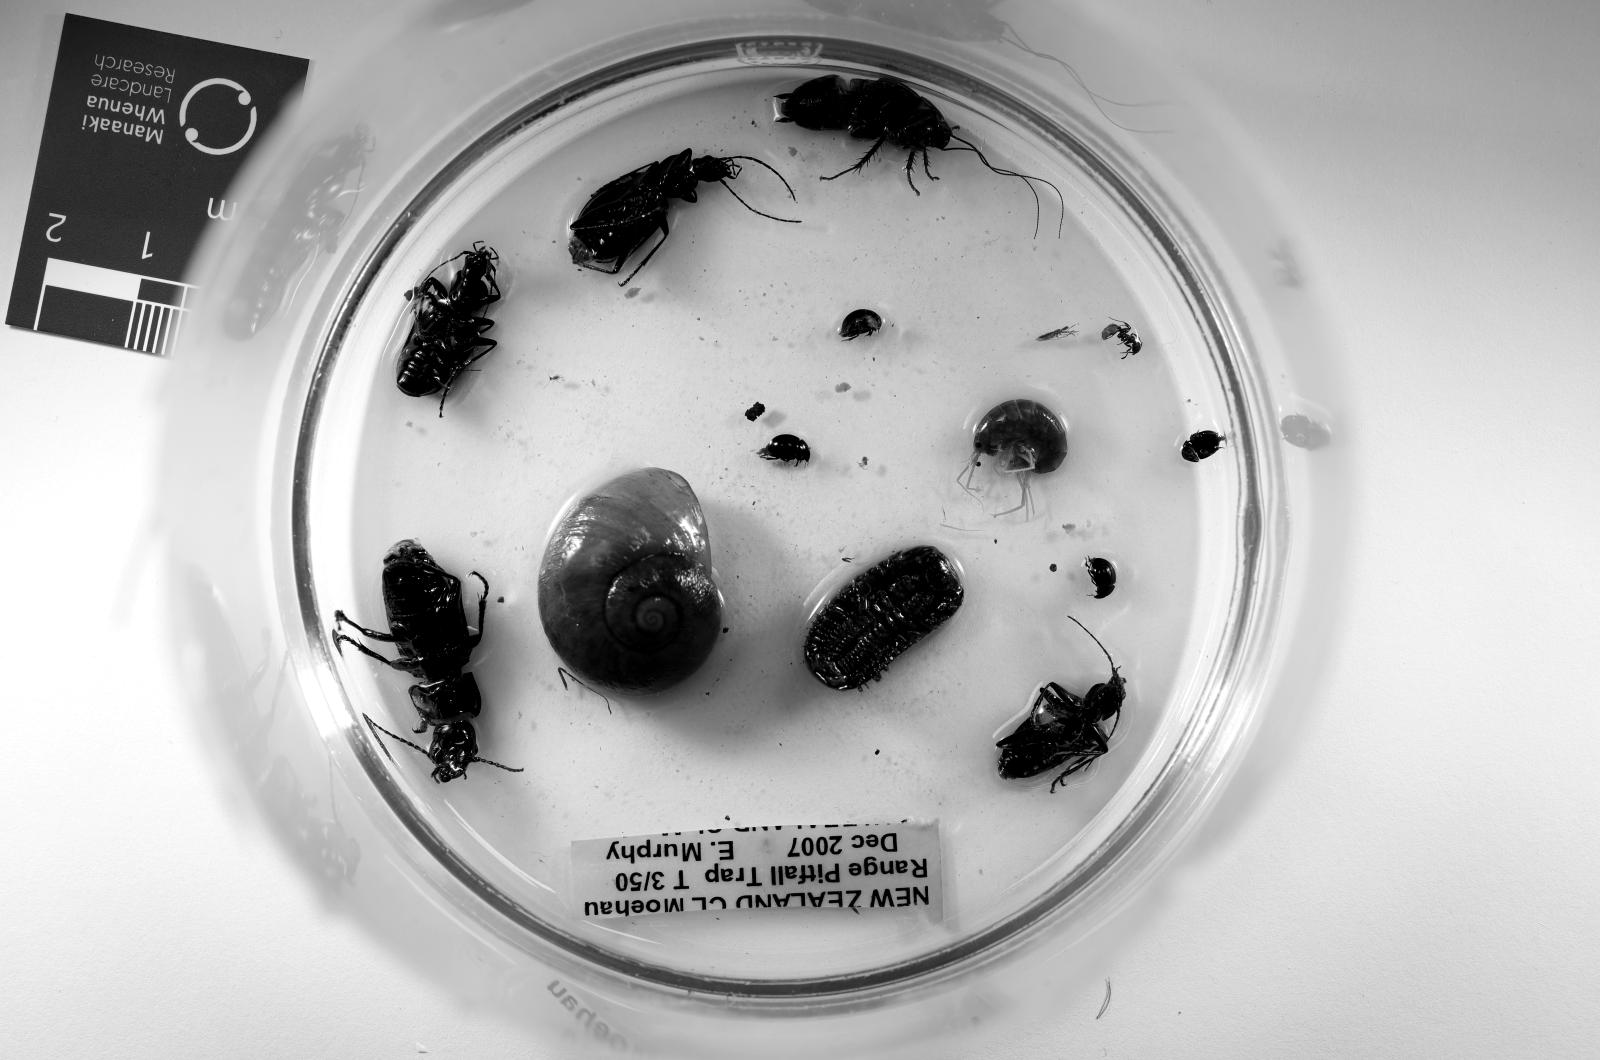amphipoda: (957, 401, 1069, 518)
blattodea: (775, 75, 1035, 187)
carabidae: (331, 541, 494, 783), (569, 149, 750, 273), (997, 658, 1125, 789), (397, 243, 500, 397)
coleoptera: (1181, 428, 1225, 463), (759, 435, 809, 463), (1084, 558, 1115, 600), (841, 310, 881, 338)
collembola: (1037, 327, 1078, 342)
formicidae: (1100, 323, 1141, 357)
gastropoda: (538, 468, 721, 696)
isopoda: (807, 547, 963, 690)
